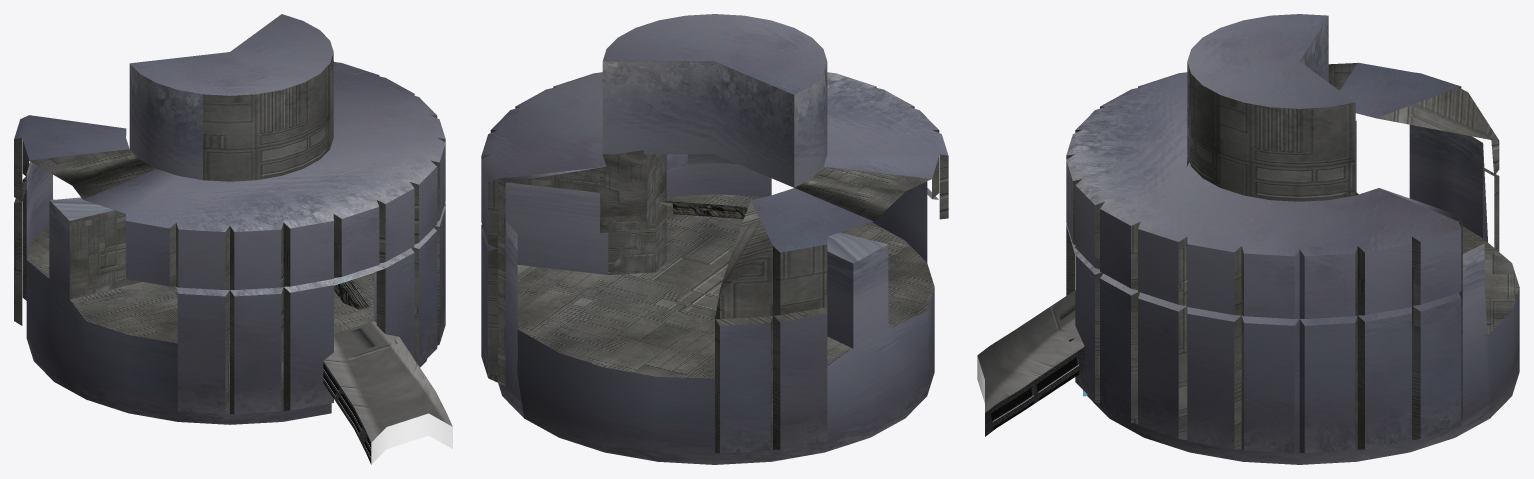
The model's file is room8.gltf.
3 views of the same model, side by side, from view 1: azimuth 30°, elevation 25°; view 2: azimuth 150°, elevation 25°; view 3: azimuth 270°, elevation 25° (orthographic). The views are drawn at different scales.
Parts seen in each view (by area): view 1: polymsh_detached10, cylinder1, polymsh_extracted22; view 2: polymsh_detached10, cylinder1, polymsh_extracted3, polymsh_extracted22, polymsh_detached60; view 3: polymsh_detached10, cylinder1.
Part boxes in pixels (left/top/right/bottom): polymsh_detached10: left=14, top=14, right=445, bottom=414; cylinder1: left=26, top=161, right=452, bottom=464; polymsh_extracted22: left=334, top=280, right=397, bottom=343; polymsh_detached10: left=481, top=14, right=948, bottom=453; cylinder1: left=498, top=163, right=934, bottom=464; polymsh_extracted3: left=508, top=150, right=666, bottom=232; polymsh_extracted22: left=659, top=200, right=747, bottom=218; polymsh_detached60: left=666, top=154, right=737, bottom=171; polymsh_detached10: left=1066, top=14, right=1499, bottom=453; cylinder1: left=977, top=120, right=1519, bottom=464.
Size of the model in its own units: 24.47 by 19.74 by 28.97.
14 materials, 13 textured.
